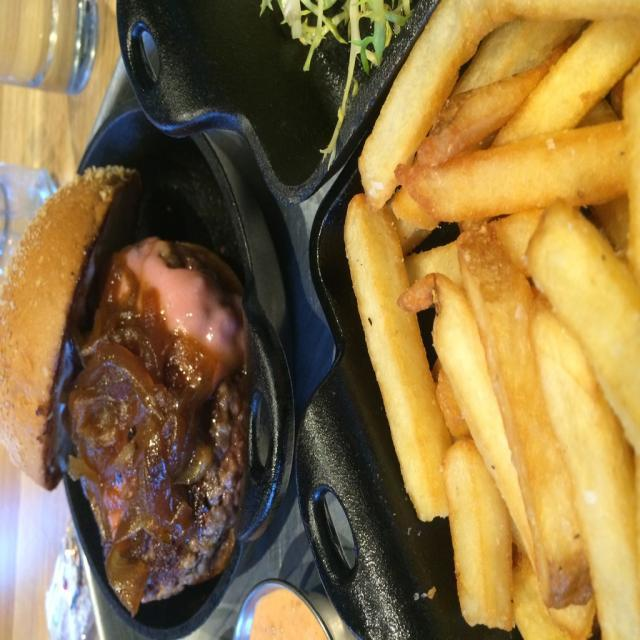French fries: (309, 28, 639, 640)
